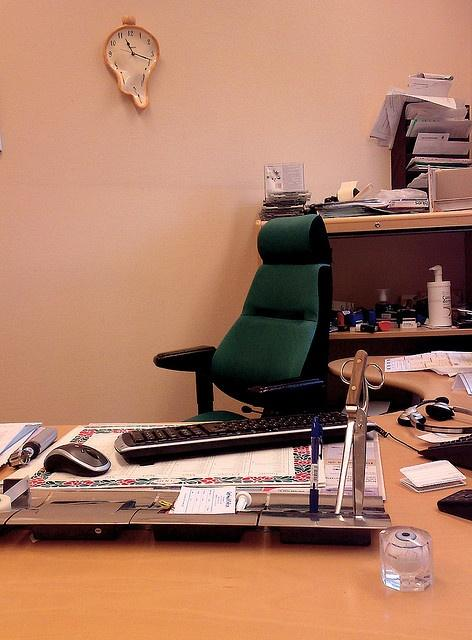Kursi: (151, 213, 335, 422)
